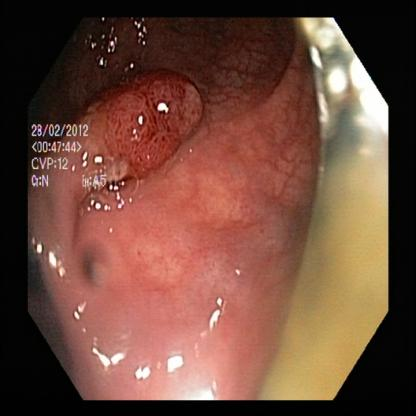Labels: (28, 115, 122, 202)
Polyps: (94, 76, 217, 169)
